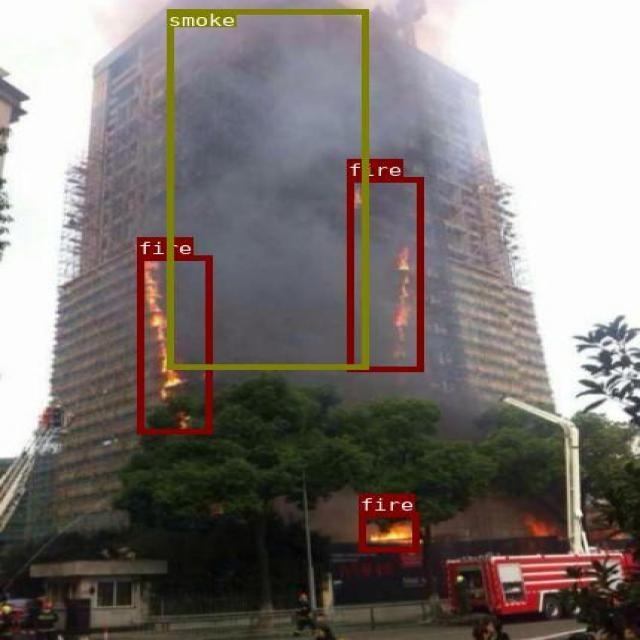fire: (346, 176, 421, 371), (136, 255, 211, 433), (359, 512, 418, 551)
smoke: (167, 9, 368, 369)
